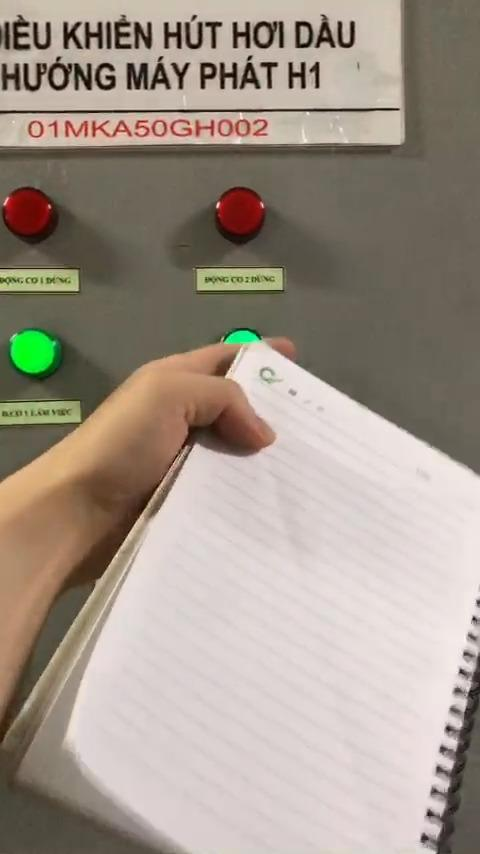led: (212, 182, 273, 240), (0, 184, 54, 239), (9, 330, 63, 379)
